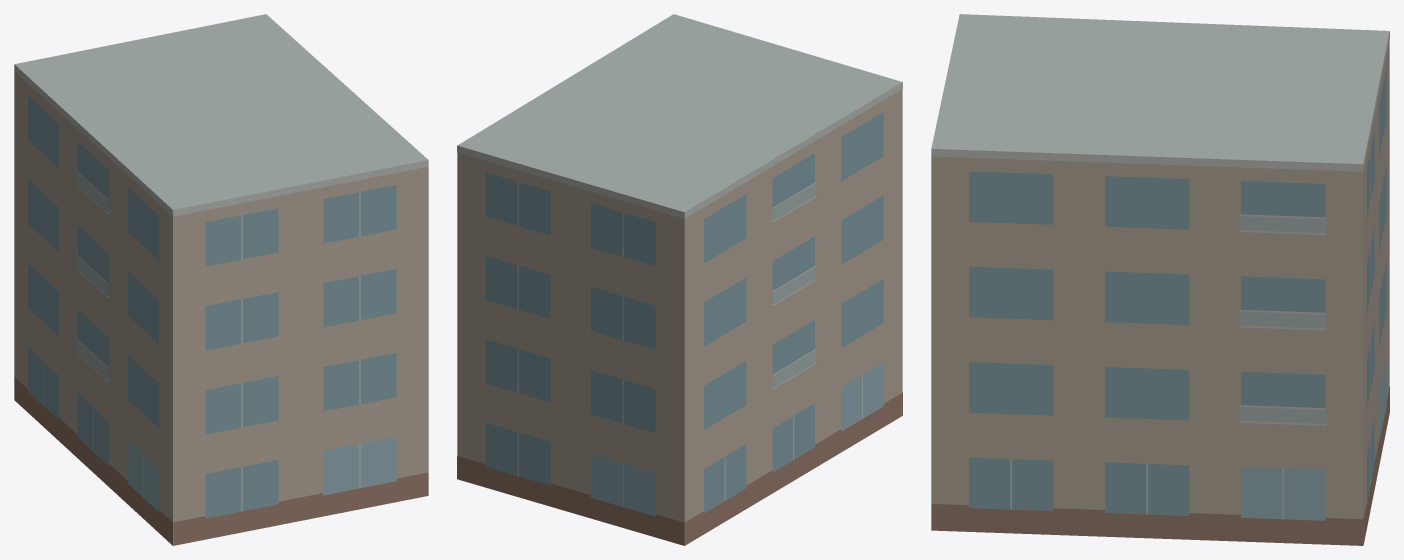
File: survey-upis-32762595.glb
3 views of the same model, side by side, from view 1: azimuth 30°, elevation 25°; view 2: azimuth 150°, elevation 25°; view 3: azimuth 270°, elevation 25° (orthographic). The views are drawn at different scales.
Visible parts, largest first — view 1: survey-upis-32762595.tmp; view 2: survey-upis-32762595.tmp; view 3: survey-upis-32762595.tmp.
Part boxes in pixels (x1,y1,x2,y2): survey-upis-32762595.tmp: (14,14,428,545); survey-upis-32762595.tmp: (457,14,902,545); survey-upis-32762595.tmp: (931,14,1389,545).
Size of the model in its own units: 10.31 by 12.2 by 13.29.
